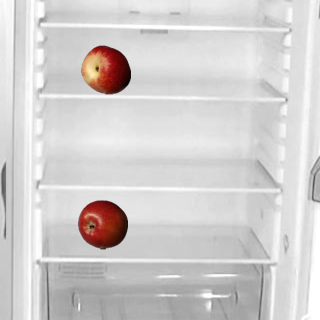Apple Braeburn: (77, 199, 127, 249)
Nectarine: (80, 44, 130, 94)
